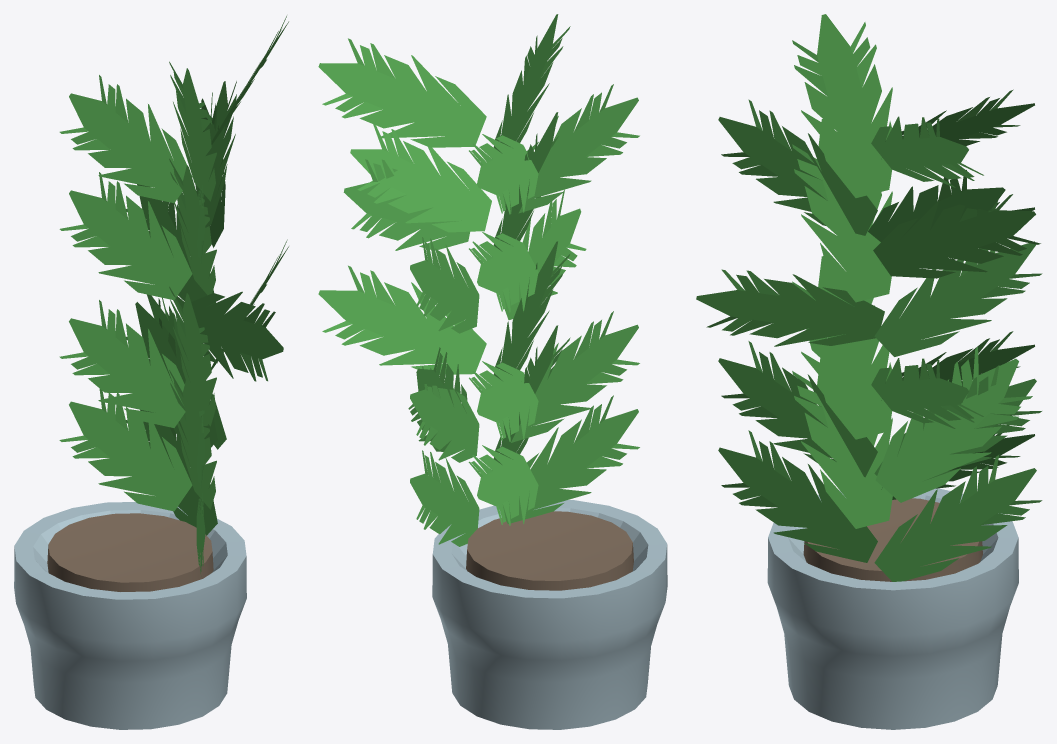
Rendered from plant_2.fbx.
3 views of the same model, side by side, from view 1: azimuth 30°, elevation 25°; view 2: azimuth 150°, elevation 25°; view 3: azimuth 270°, elevation 25° (orthographic). The views are drawn at different scales.
Parts seen in each view (by area): view 1: pCylinder1, pCube23, pCube28, pCube14, pCube18, pCube27, pCube31, pCube21, pCube26, pCube4, pCube30, pCube20 (+7 smaller); view 2: pCylinder1, pCube29, pCube19, pCube30, pCube7, pCube22, pCube32, pCube25, pCube17, pCube24, pCube20, pCube14 (+9 smaller); view 3: pCylinder1, pCube31, pCube17, pCube16, pCube27, pCube7, pCube25, pCube24, pCube32, pCube22, pCube21, pCube4 (+8 smaller).
Boxes of the visible parts, x1,y1,x2,y2 form: pCylinder1: (14,502,246,729); pCube23: (59,172,192,300); pCube28: (59,75,192,203); pCube14: (59,389,192,511); pCube18: (59,300,185,427); pCube27: (191,291,283,381); pCube31: (169,61,216,201); pCube21: (169,286,216,426); pCube26: (169,158,216,295); pCube4: (169,370,216,509); pCube30: (195,81,236,227); pCube20: (126,298,217,447); pCylinder1: (432,500,667,729); pCube29: (318,38,486,147); pCube19: (318,265,486,374); pCube30: (350,124,491,232); pCube7: (503,395,639,523); pCube22: (502,311,639,442); pCube32: (503,84,639,213); pCube25: (410,237,479,333); pCube17: (410,450,479,546); pCube24: (343,159,469,250); pCube20: (410,366,479,462); pCube14: (468,445,538,525); pCylinder1: (767,488,1018,729); pCube31: (792,14,892,197); pCube17: (874,454,1042,581); pCube16: (875,347,1032,502); pCube27: (696,269,884,346); pCube7: (718,430,877,562); pCube25: (874,241,1042,356); pCube24: (873,200,1040,278); pCube32: (718,99,877,235); pCube22: (718,341,877,477); pCube21: (792,256,892,439); pCube4: (792,358,892,528).
Bounding box in the file's own units: 1.85 × 3.82 × 1.76.
